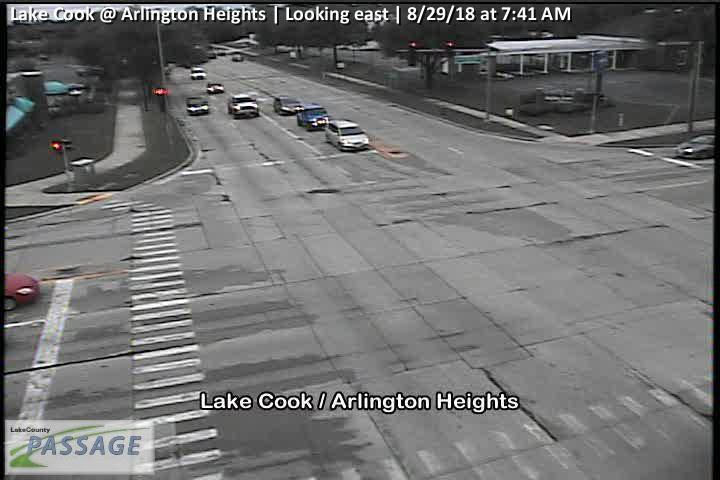SUV: (325, 119, 369, 152), (297, 103, 328, 128), (228, 95, 259, 118), (191, 67, 205, 80)
Sedan: (273, 96, 301, 114), (187, 96, 208, 114), (207, 82, 224, 94)
